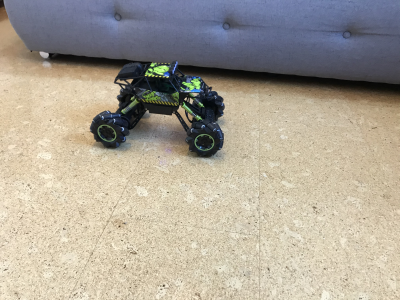remote control car: (87, 55, 227, 159)
